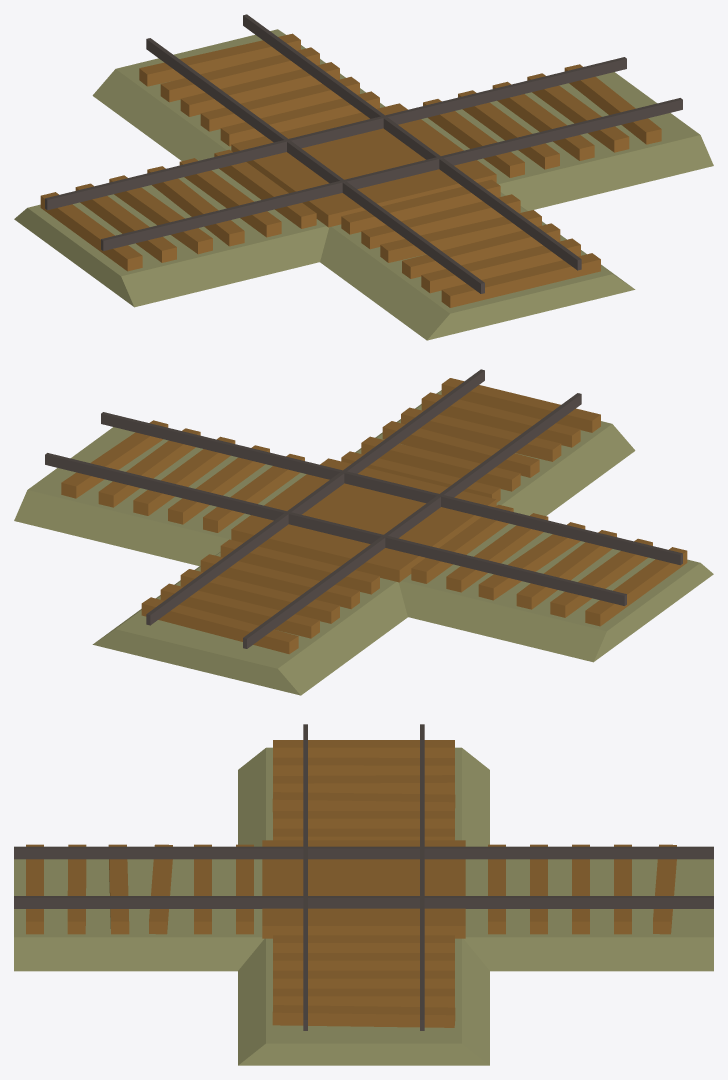
File: SM_Via_Cruce_v1_Madera_LOD0.fbx
3 views of the same model, one above another, from view 1: azimuth 30°, elevation 25°; view 2: azimuth 150°, elevation 25°; view 3: azimuth 270°, elevation 25° (orthographic). The views are drawn at different scales.
Parts seen in each view (by area): view 1: SM_via_trazado_v41_LOD0; view 2: SM_via_trazado_v41_LOD0; view 3: SM_via_trazado_v41_LOD0.
Boxes of the visible parts, x1=… form: SM_via_trazado_v41_LOD0: x1=14, y1=14, x2=713, y2=340; SM_via_trazado_v41_LOD0: x1=14, y1=369, x2=713, y2=695; SM_via_trazado_v41_LOD0: x1=14, y1=724, x2=713, y2=1065.
Bounding box in the file's own units: 10 × 0.722 × 10.
